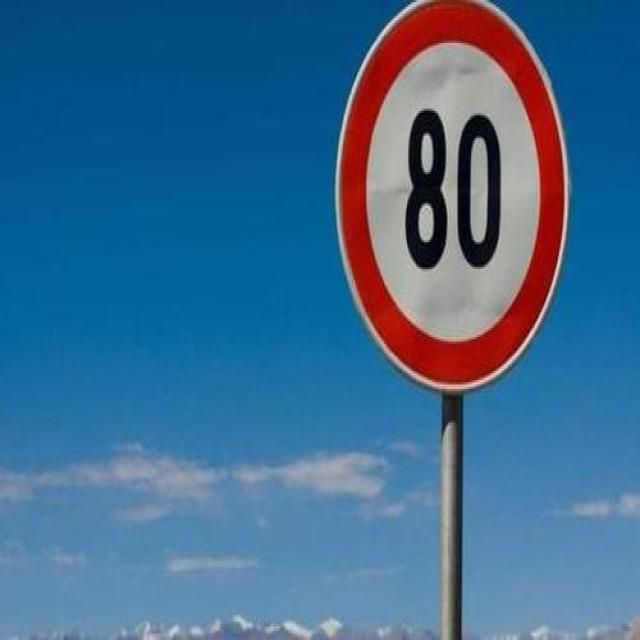speed limit 80: (335, 1, 569, 392)
